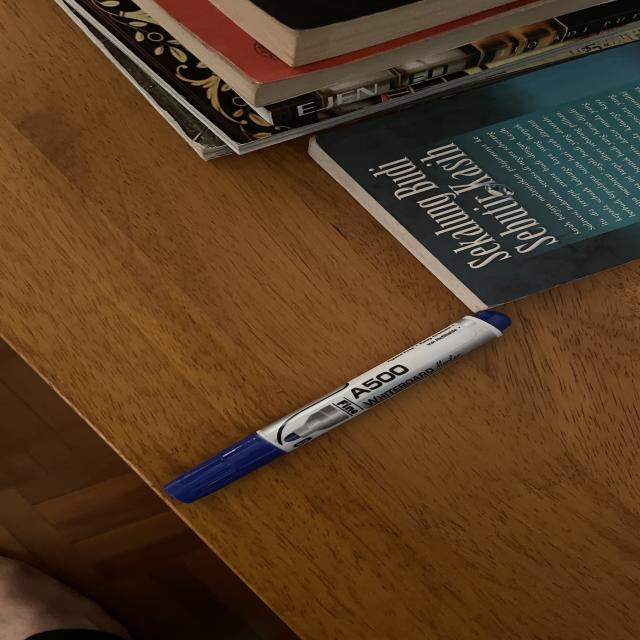marker: (165, 311, 510, 502)
